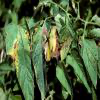Tomato leaf bacterial spot: (5, 16, 34, 98), (31, 22, 49, 99), (79, 35, 99, 91), (60, 15, 74, 64)
